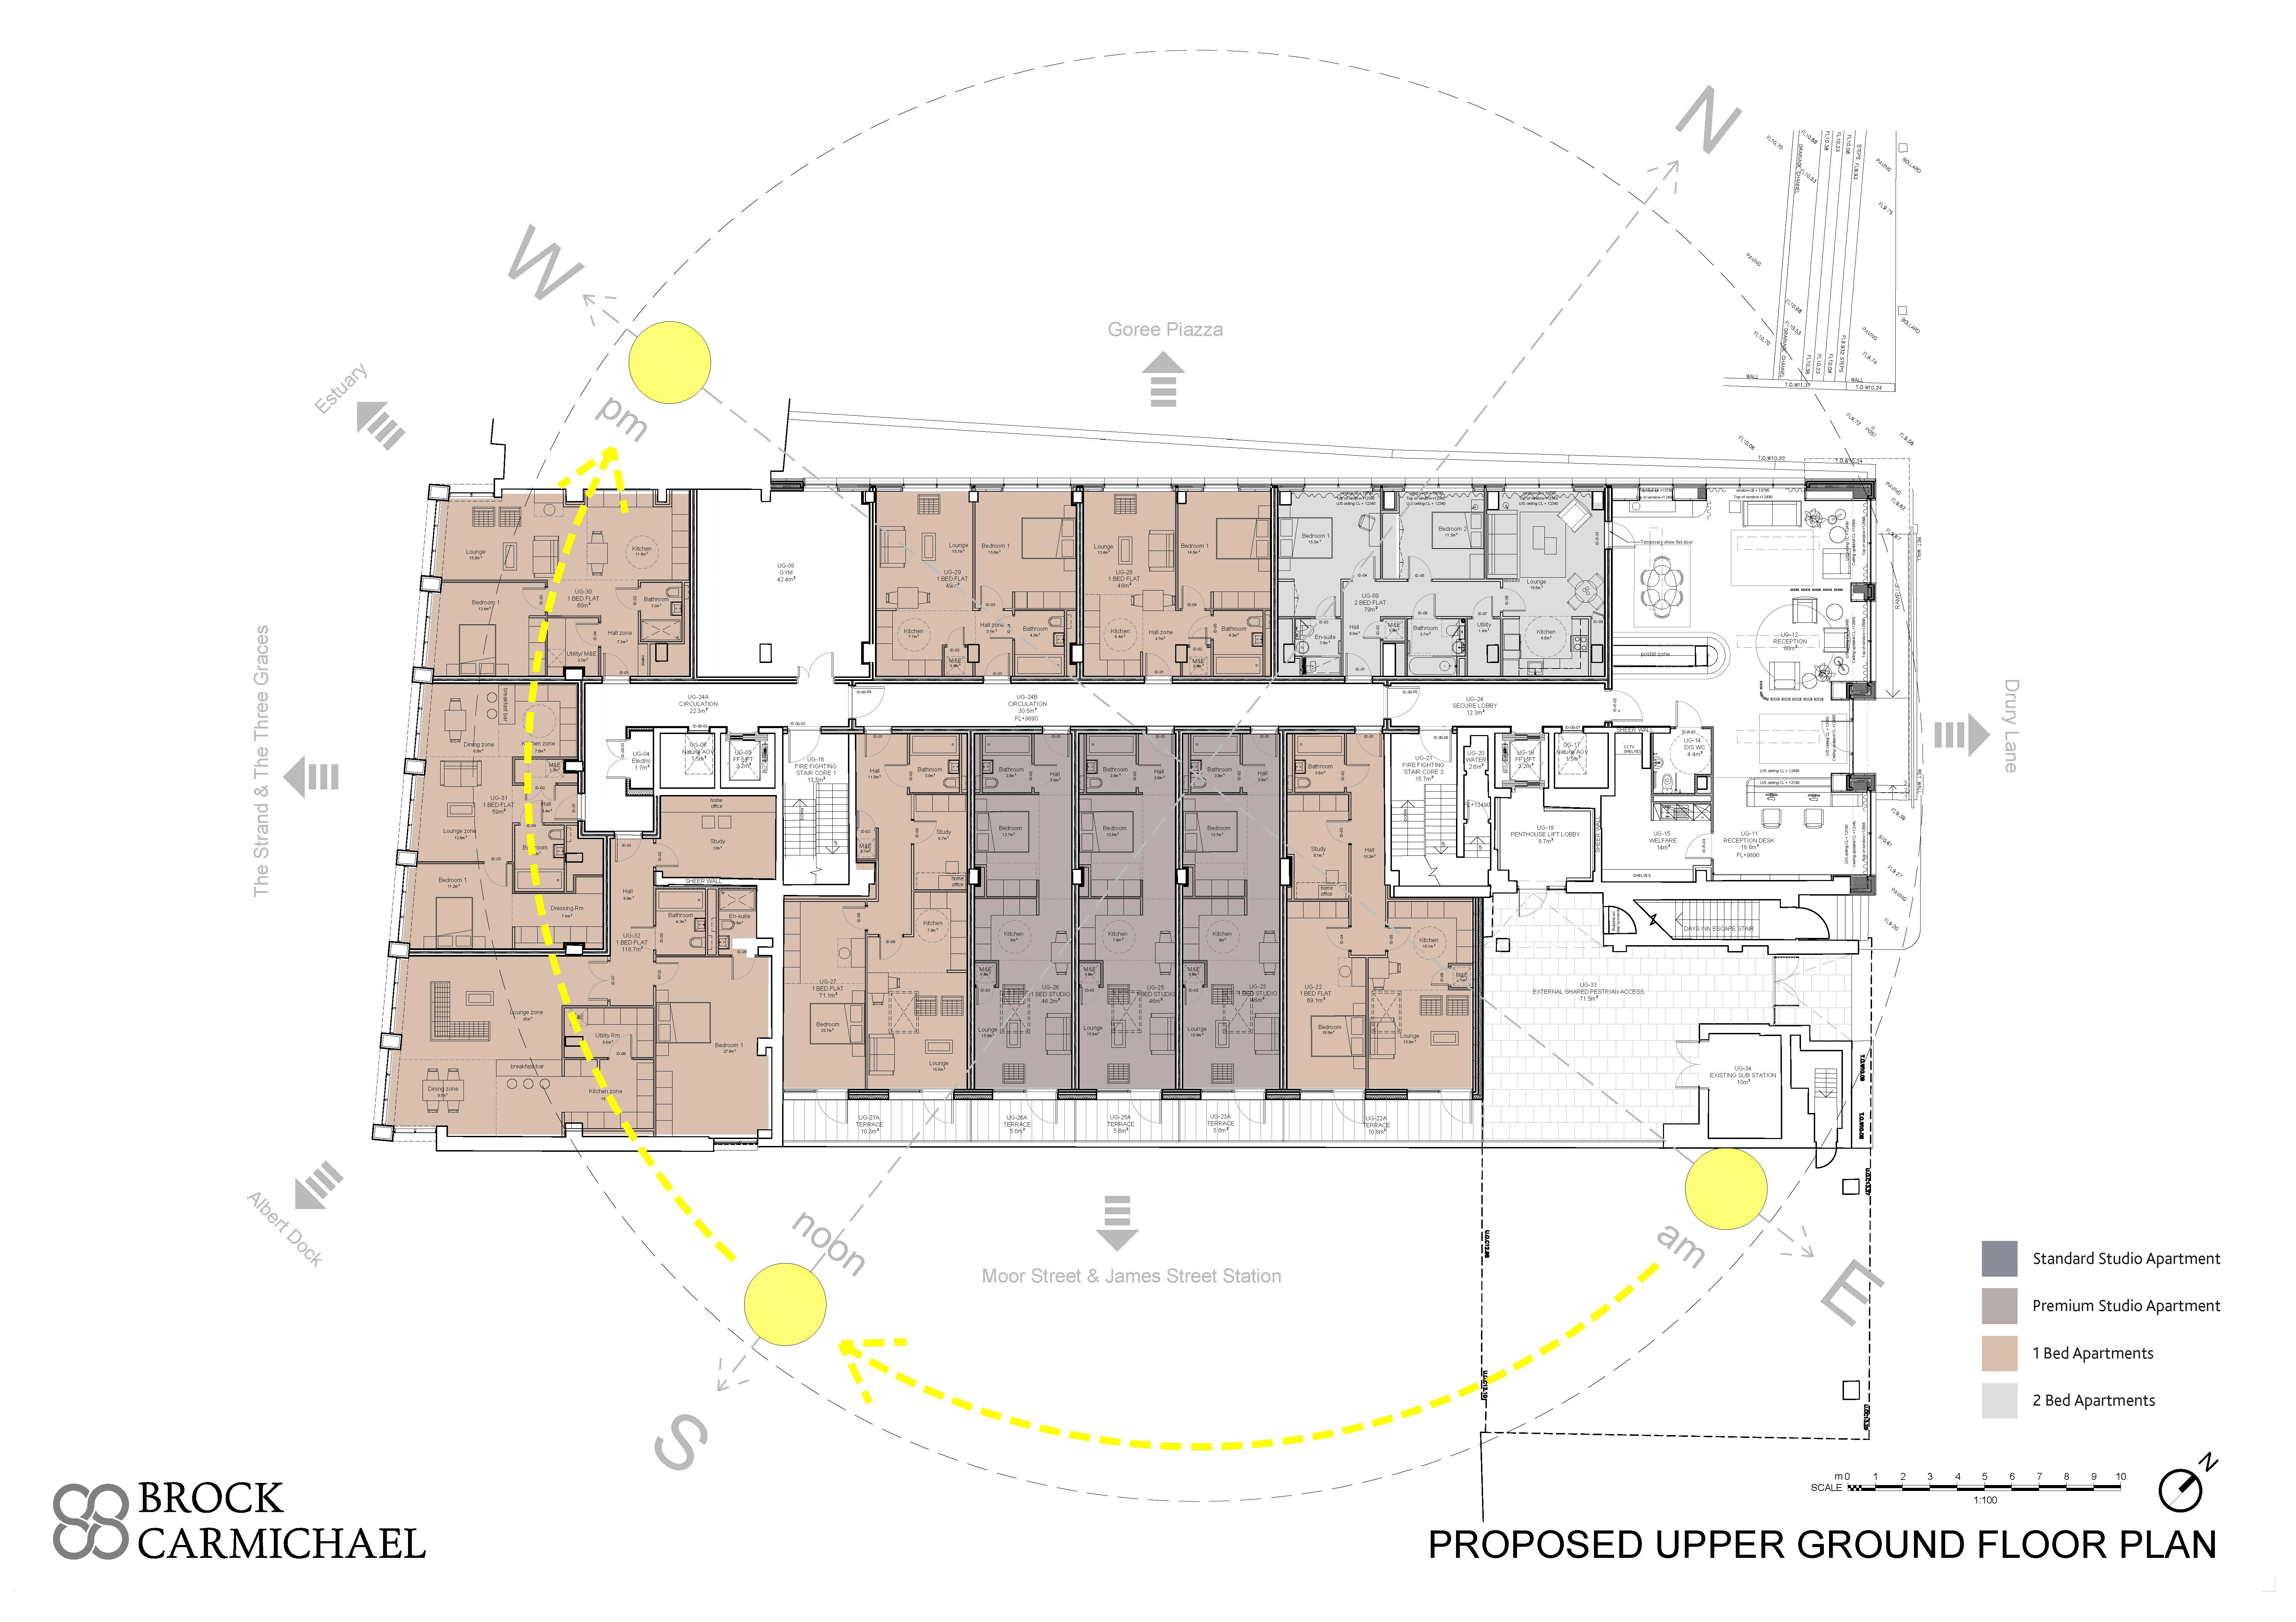door: (586, 960, 611, 1001), (730, 957, 755, 981), (881, 764, 906, 788), (483, 865, 509, 888), (602, 650, 628, 671), (520, 585, 539, 613), (574, 621, 593, 650), (660, 960, 681, 985), (662, 843, 681, 867), (614, 585, 632, 611)
